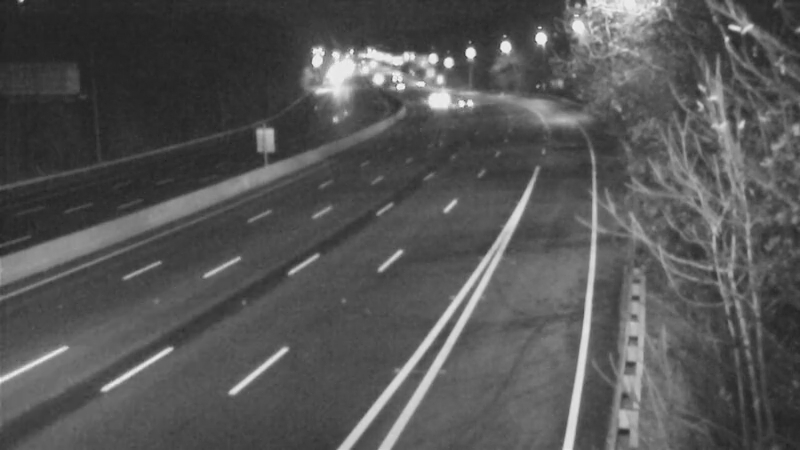vehicle: (372, 54, 422, 104), (350, 52, 400, 102), (372, 62, 422, 112), (405, 75, 455, 125), (437, 77, 487, 127)
